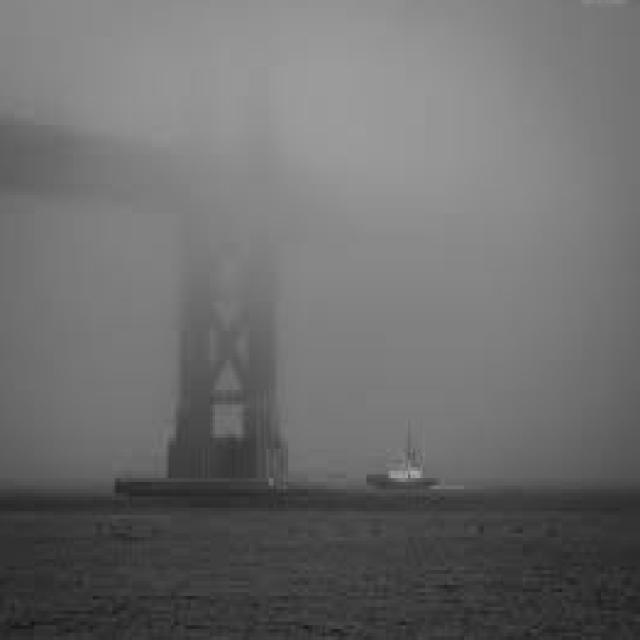cargoship: (359, 398, 449, 492)
